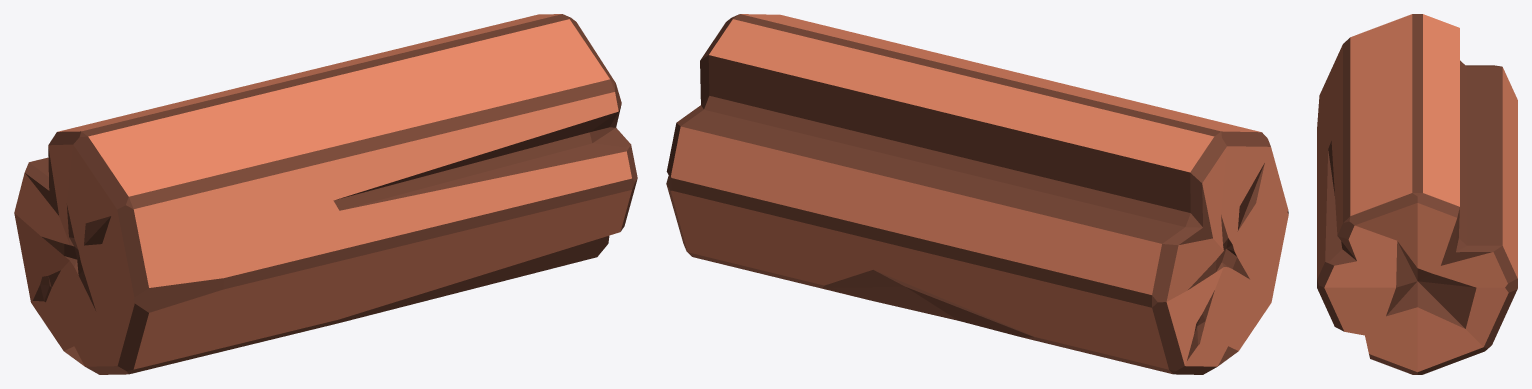
File: WoodCylinder.fbx
3 views of the same model, side by side, from view 1: azimuth 30°, elevation 25°; view 2: azimuth 150°, elevation 25°; view 3: azimuth 270°, elevation 25° (orthographic). The views are drawn at different scales.
Visible parts, largest first — view 1: OdunCylinder; view 2: OdunCylinder; view 3: OdunCylinder.
Boxes of the visible parts, x1,y1,x2,y2 form: OdunCylinder: (14,14,637,374); OdunCylinder: (666,14,1288,374); OdunCylinder: (1317,14,1517,374).
Bounding box in the file's own units: 86.23 × 39.17 × 39.19.
